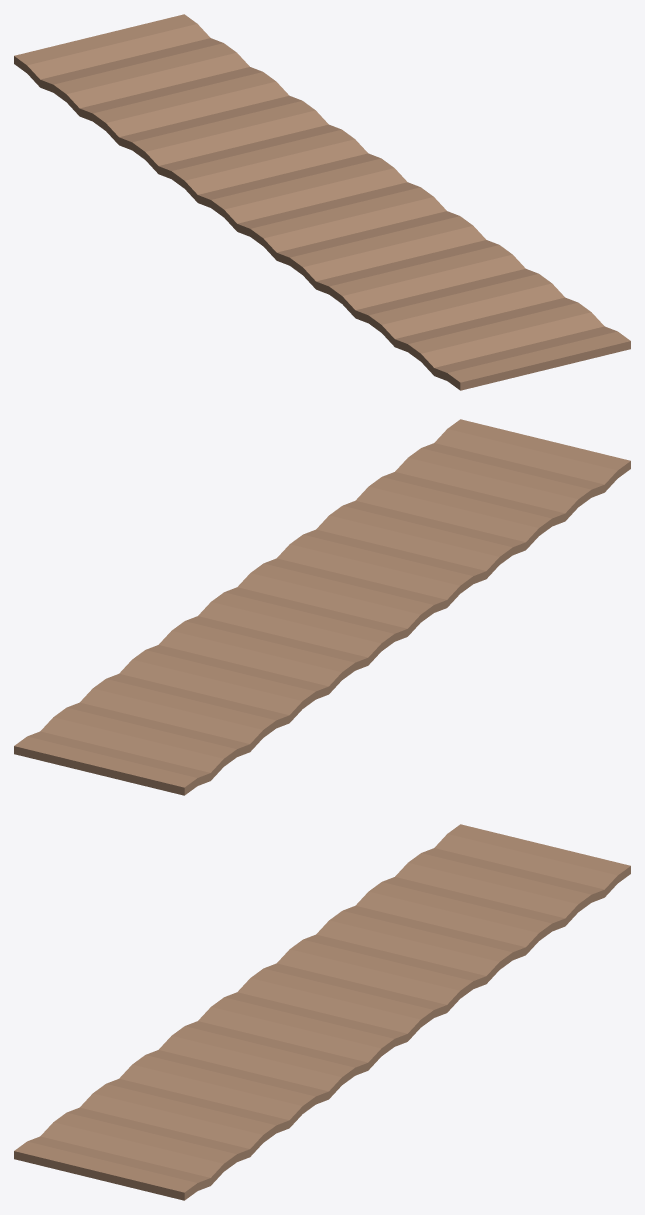
The model's file is Suelo002.fbx.
The picture shows the model from 3 angles, top to bottom: view 1: azimuth 30°, elevation 25°; view 2: azimuth 150°, elevation 25°; view 3: azimuth 330°, elevation 25°; orthographic projection.
Parts seen in each view (by area): view 1: Cube.012; view 2: Cube.012; view 3: Cube.012.
Boxes of the visible parts, left/top/right/bottom form: Cube.012: left=14, top=14, right=630, bottom=390; Cube.012: left=14, top=419, right=630, bottom=795; Cube.012: left=14, top=824, right=630, bottom=1200.
Size of the model in its own units: 441 by 31.26 by 1998.
